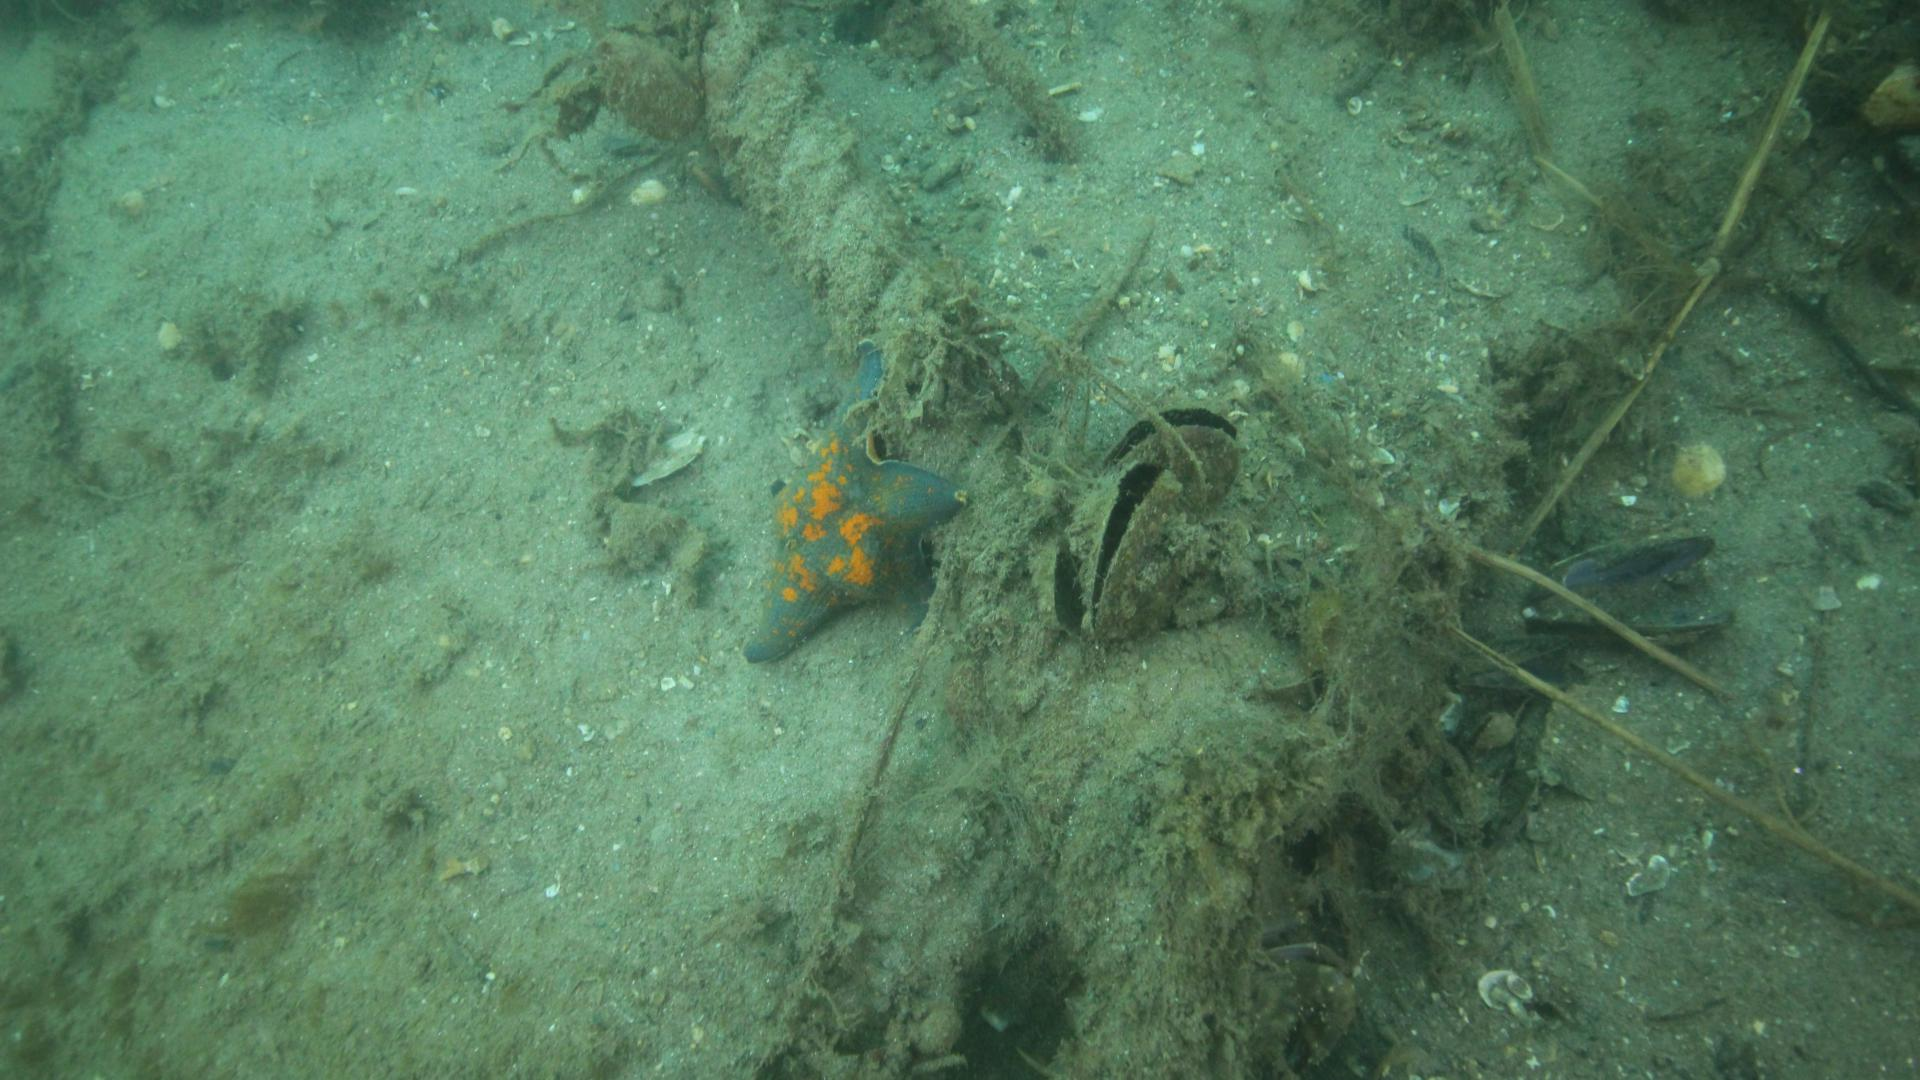rope: (698, 0, 953, 351)
